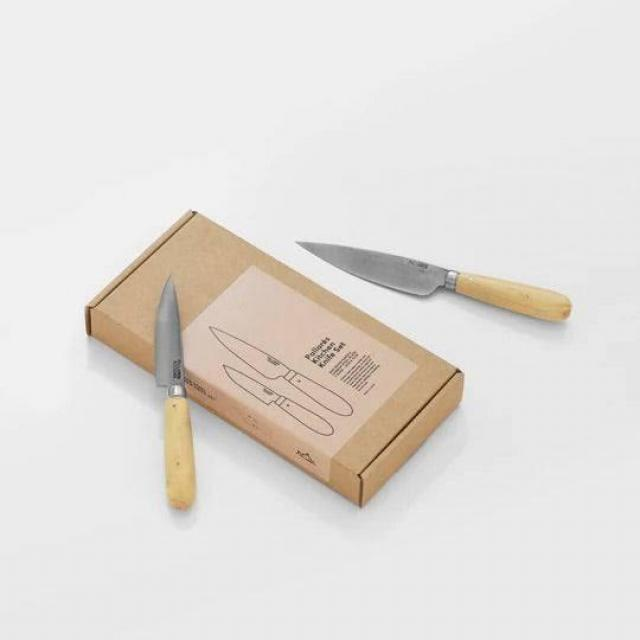knife: (295, 240, 460, 298), (156, 273, 188, 407)
